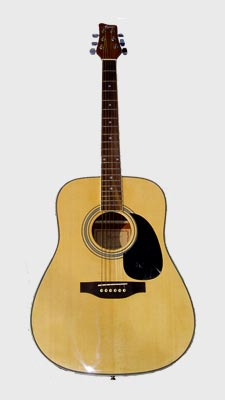guitar: (32, 24, 196, 375)
